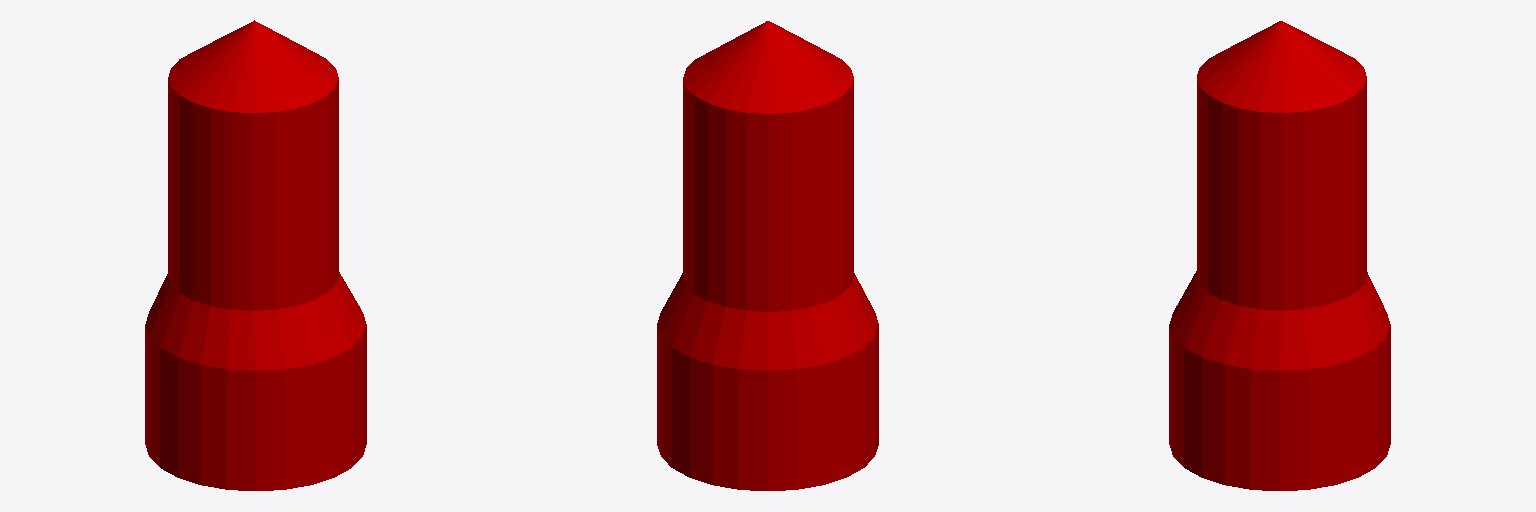
robot.urdf — red_buoy:
<robot name="red_buoy">
  <link name="red_buoy">
    <inertial>
      <origin xyz="0 0 0" />
      <mass value="10.0" />
      <inertia  ixx="1.0" ixy="0.0"  ixz="0.0"  iyy="100.0"  iyz="0.0"  izz="1.0" />
    </inertial>
    <visual>
      <origin xyz="0 0 -1"/>
      <geometry>
            <mesh filename="package://robotx_description/meshes/red_buoy_marker.dae" scale="1 1 1" />
      </geometry>
    </visual>
    <collision>
      <origin xyz="0 0 0"/>
      <geometry>
        <cylinder length="0.99" radius="0.127" />
      </geometry>
    </collision>
  </link>
  <gazebo reference="red_buoy">
    <material>Gazebo/Red</material>
  </gazebo>
</robot>

--- What the picture shows (computed from the rendered views, not written in the file) ---
3 views of the same robot in one strip: view 1: azimuth 30°, elevation 25°; view 2: azimuth 150°, elevation 25°; view 3: azimuth 270°, elevation 25° (orthographic).
Robot: red_buoy — 1 links, 0 joints (none); root link red_buoy; default pose: all joints at 0.
Visible links, largest first — view 1: red_buoy; view 2: red_buoy; view 3: red_buoy.
Boxes of the visible links, x1=… form: red_buoy: x1=145, y1=20, x2=366, y2=490; red_buoy: x1=657, y1=21, x2=878, y2=490; red_buoy: x1=1169, y1=21, x2=1390, y2=490.
Size in the robot's own frame: 0.9398 by 0.9398 by 1.99 metres.
Meshes: 1 distinct files referenced, 1 mesh visuals loaded (1 Collada DAE).